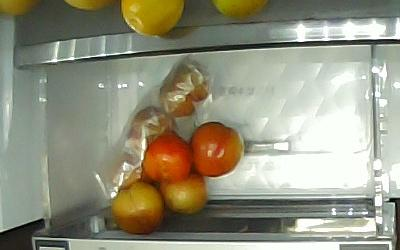prune: (187, 120, 242, 177), (109, 180, 163, 235), (141, 130, 192, 182), (158, 170, 207, 214)
prune_vinyl: (126, 104, 178, 162), (158, 58, 209, 117), (112, 160, 143, 187)
